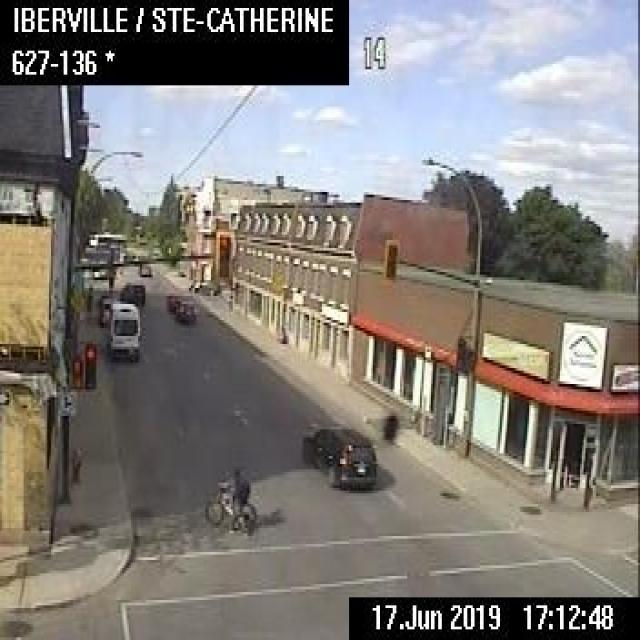cyclist: (200, 464, 255, 531)
vehicle: (300, 421, 376, 488), (105, 300, 141, 360), (118, 280, 143, 304), (99, 293, 117, 323), (174, 298, 194, 321), (165, 291, 182, 310), (138, 262, 150, 276)
